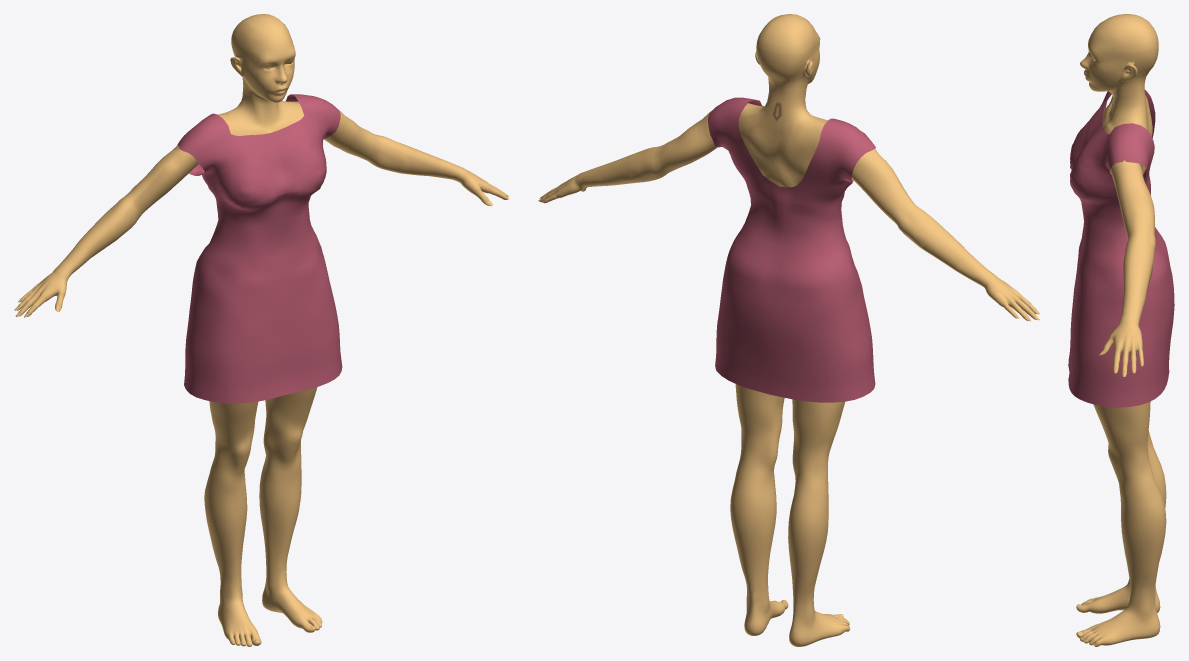
Rendered from dress7.glb.
The picture shows the model from 3 angles, left to right: view 1: azimuth 30°, elevation 25°; view 2: azimuth 150°, elevation 25°; view 3: azimuth 270°, elevation 25°; orthographic projection.
Parts seen in each view (by area): view 1: Jennifer.F_Dress_01, Body; view 2: Body, Jennifer.F_Dress_01; view 3: Body, Jennifer.F_Dress_01.
Boxes of the visible parts, x1=… form: Jennifer.F_Dress_01: x1=177, y1=94, x2=342, y2=403; Body: x1=17, y1=14, x2=508, y2=646; Body: x1=539, y1=14, x2=1037, y2=646; Jennifer.F_Dress_01: x1=708, y1=97, x2=875, y2=402; Body: x1=1076, y1=14, x2=1166, y2=646; Jennifer.F_Dress_01: x1=1068, y1=89, x2=1174, y2=407.
Bounding box in the file's own units: 1.58 × 1.85 × 0.2918.
